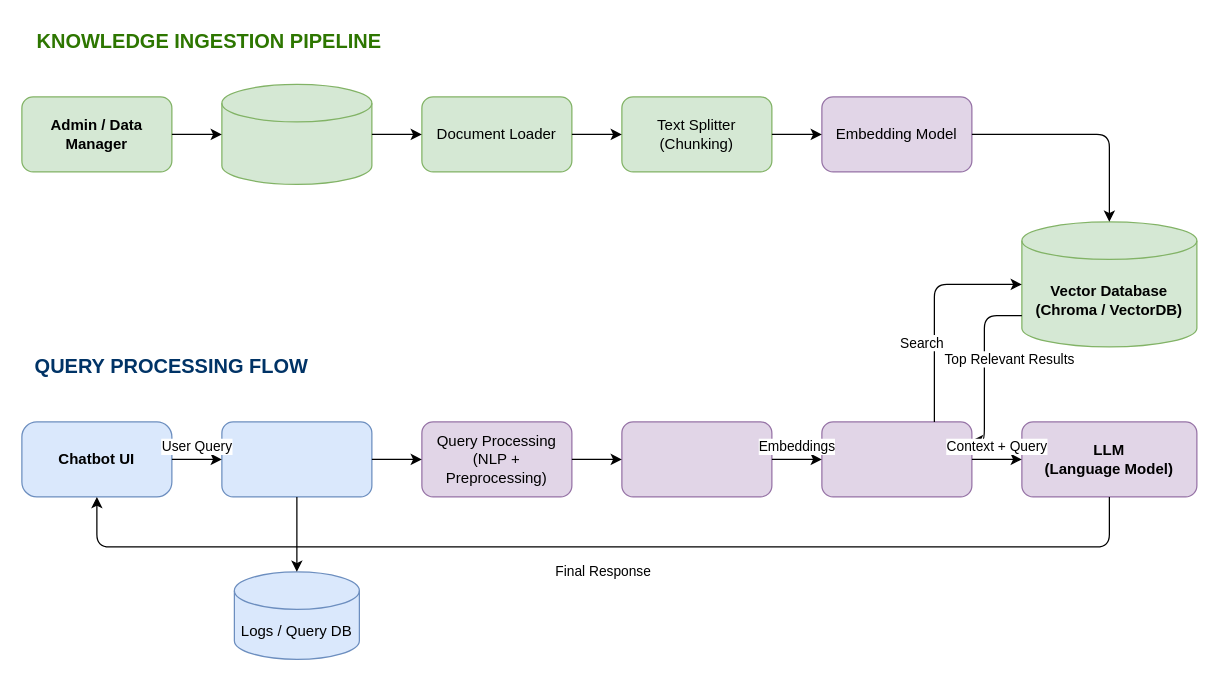
Some shapes in this 1219 by 681 pixel diagram are drawn without their labels. Here are the shapes that lost their labels. From the top down, the box of each, then its label:
(221, 83, 372, 184): Data Sources (Website, Docs, Notices, Calendar)
(221, 421, 372, 497): Backend API (Python)
(621, 421, 772, 497): Embedding Conversion
(821, 421, 972, 497): Retriever (Semantic Search)
